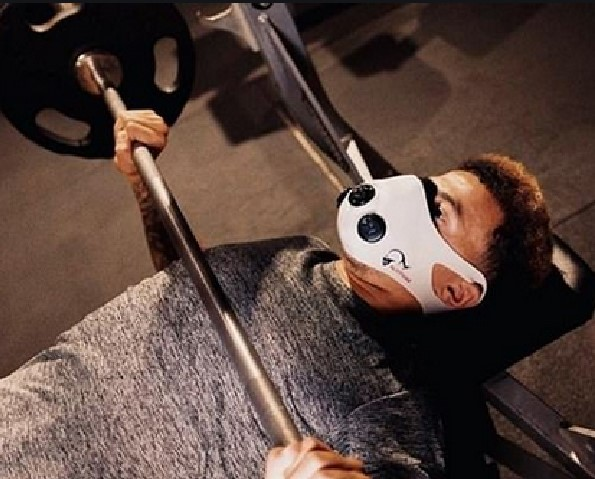face_with_mask: (339, 165, 533, 321)
